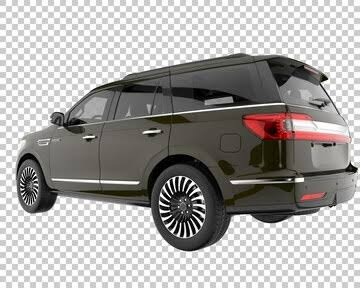car: (14, 53, 356, 254)
